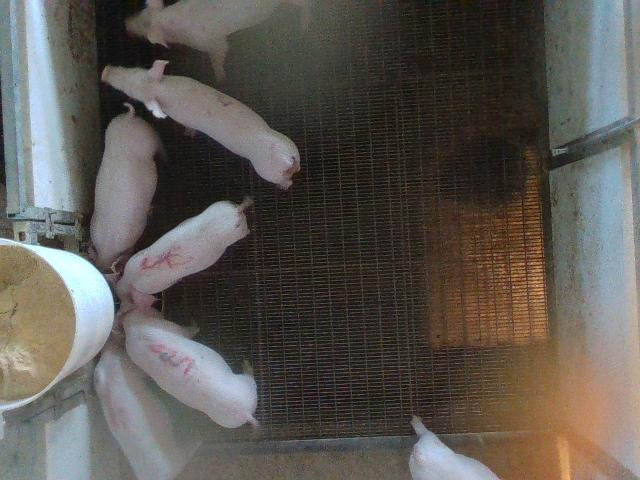pig-3: (122, 309, 258, 428)
pig-4: (95, 330, 199, 479)
pig-5: (105, 201, 249, 308)
